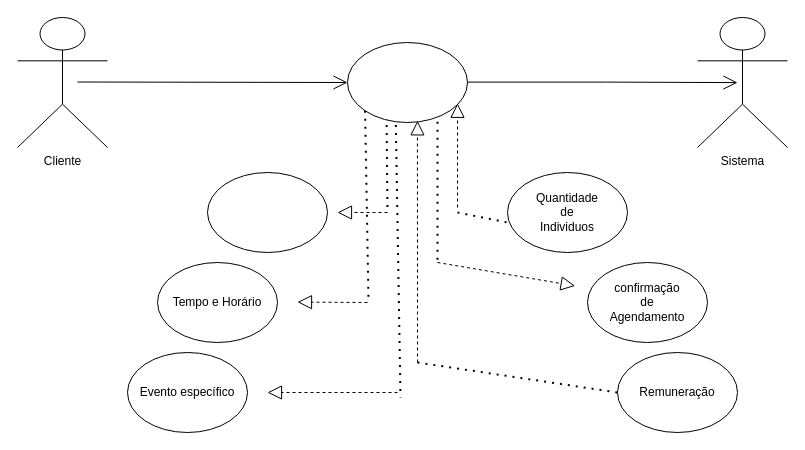
Image size: 805x450. Some labels were removed from this diagram. The shapes that lost their labels are listed below. From the top down, each one's centre as x and y in pixels, then its label:
At point (407, 82): "Fazer Agendamento".
At point (267, 212): "Lugar".
